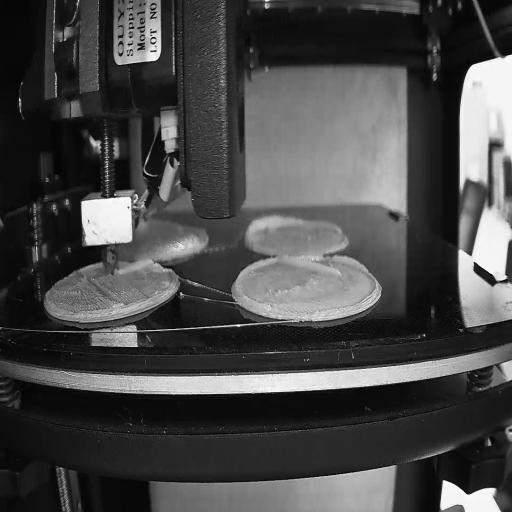over_extrusion: (235, 255, 279, 311), (285, 254, 369, 276), (244, 212, 301, 244), (115, 258, 150, 274)
